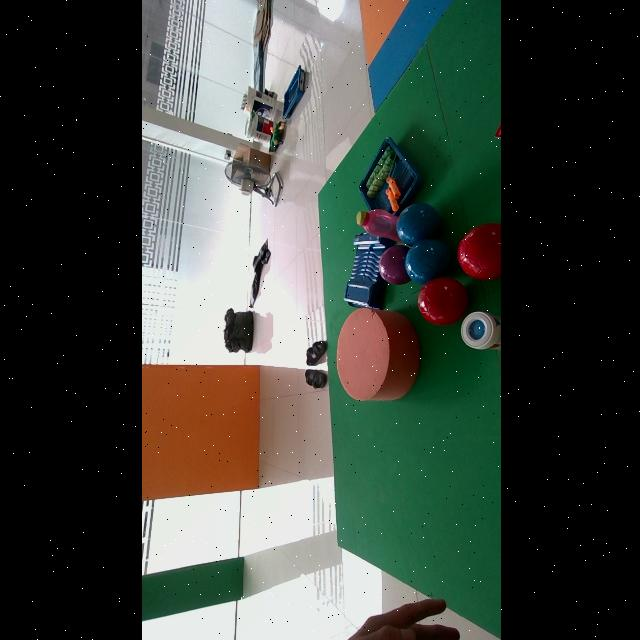B: (404, 240, 451, 284), (396, 203, 439, 246)
P: (377, 245, 409, 284)
R: (456, 223, 500, 281), (418, 278, 467, 324)
